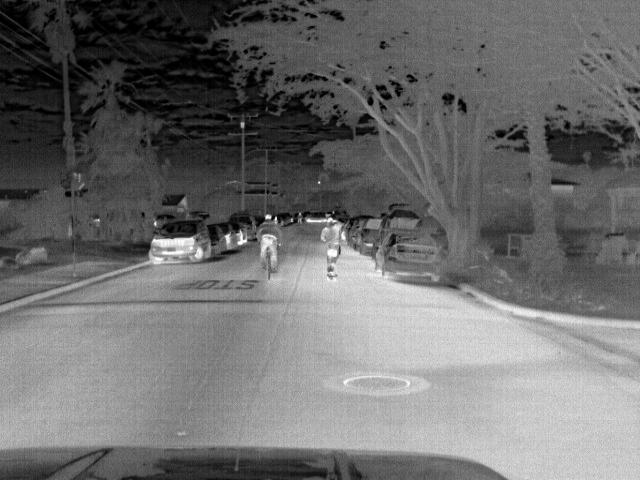car: (377, 234, 447, 282), (146, 219, 208, 265), (372, 210, 423, 262), (355, 218, 385, 253), (220, 221, 242, 253), (230, 214, 254, 240), (209, 225, 225, 256), (234, 225, 248, 243)
person: (255, 213, 282, 274), (320, 220, 344, 273)
